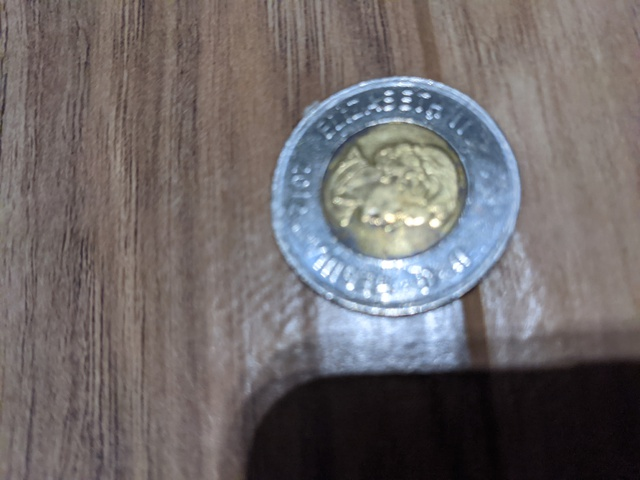twonie: (242, 53, 540, 327)
